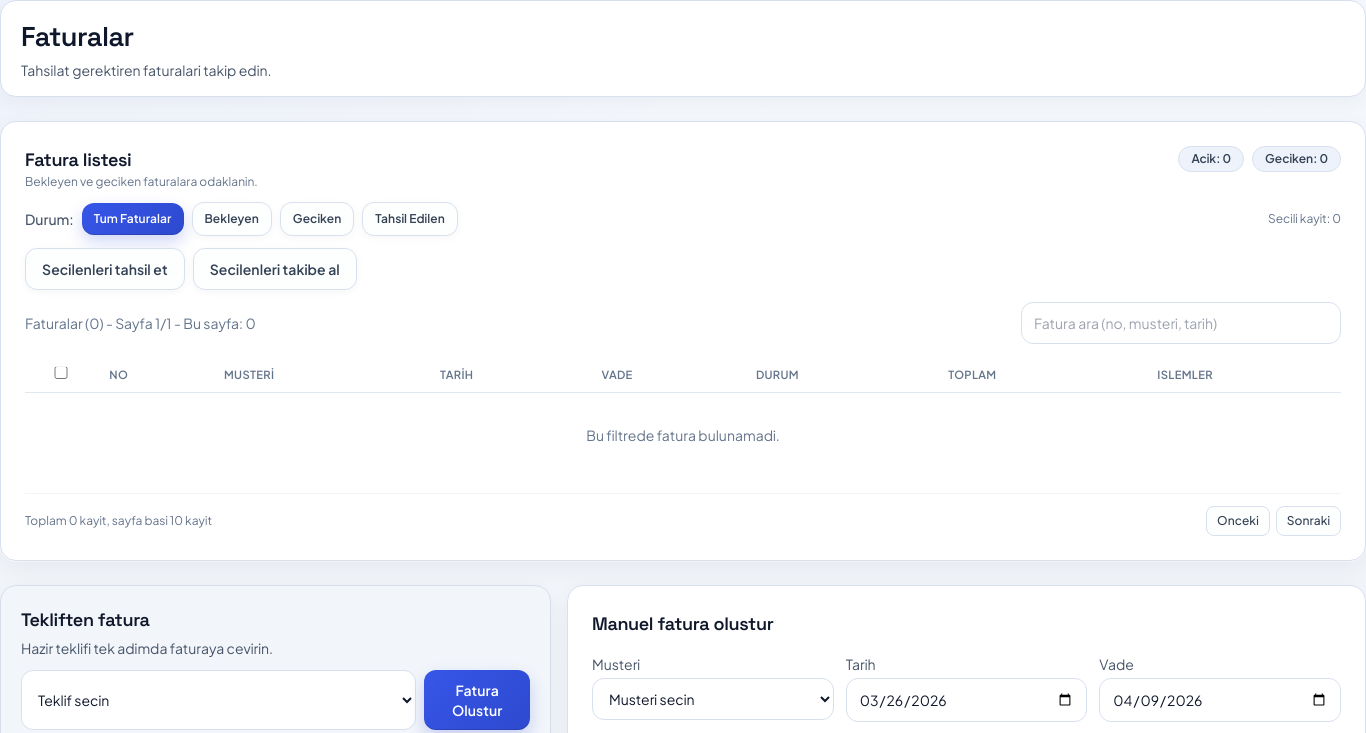
Scenario: InvoicesPage › shows validation error when quote is not selected for conversion
The width and height of the screenshot is (1366, 733).
Click the button "Fatura Olustur" at (477, 700), box [424,670,530,730]
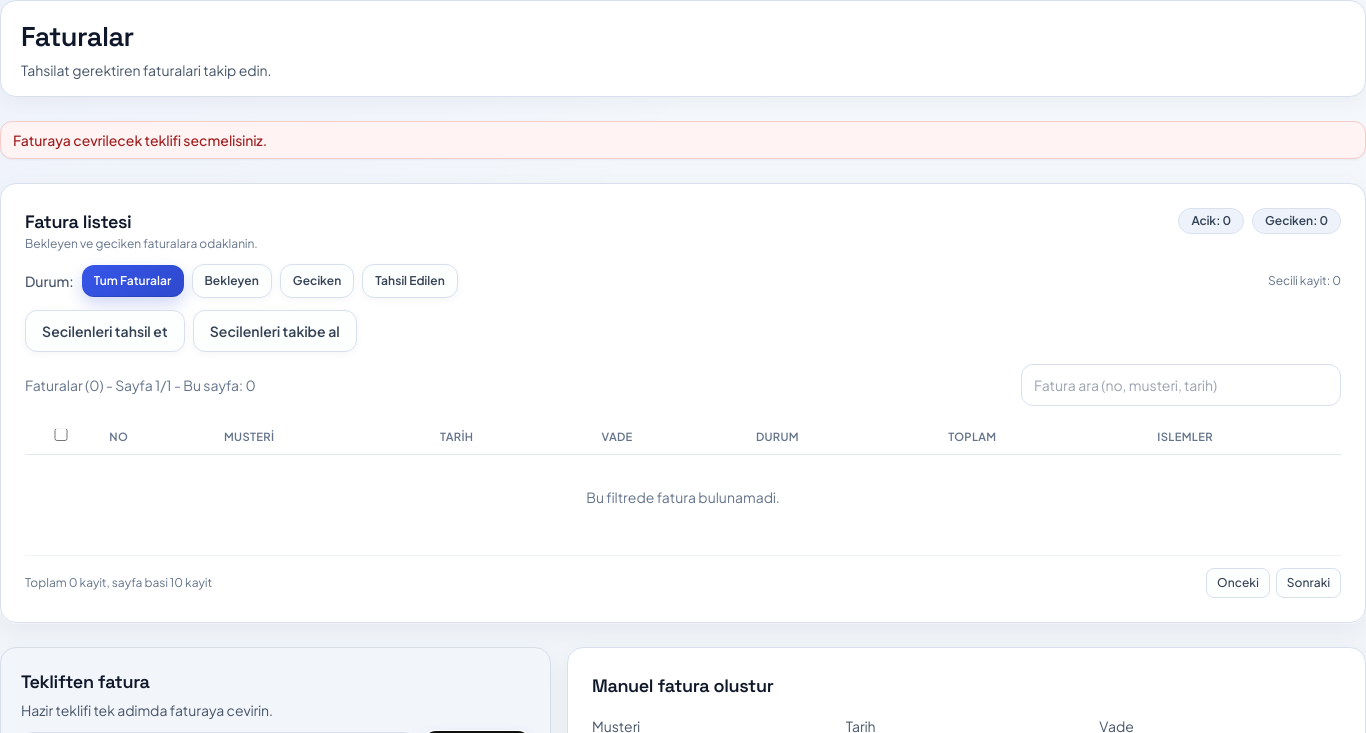
Expected: the text "Faturaya cevrilecek teklifi secmelisiniz." is shown, [0,121,1365,159]
